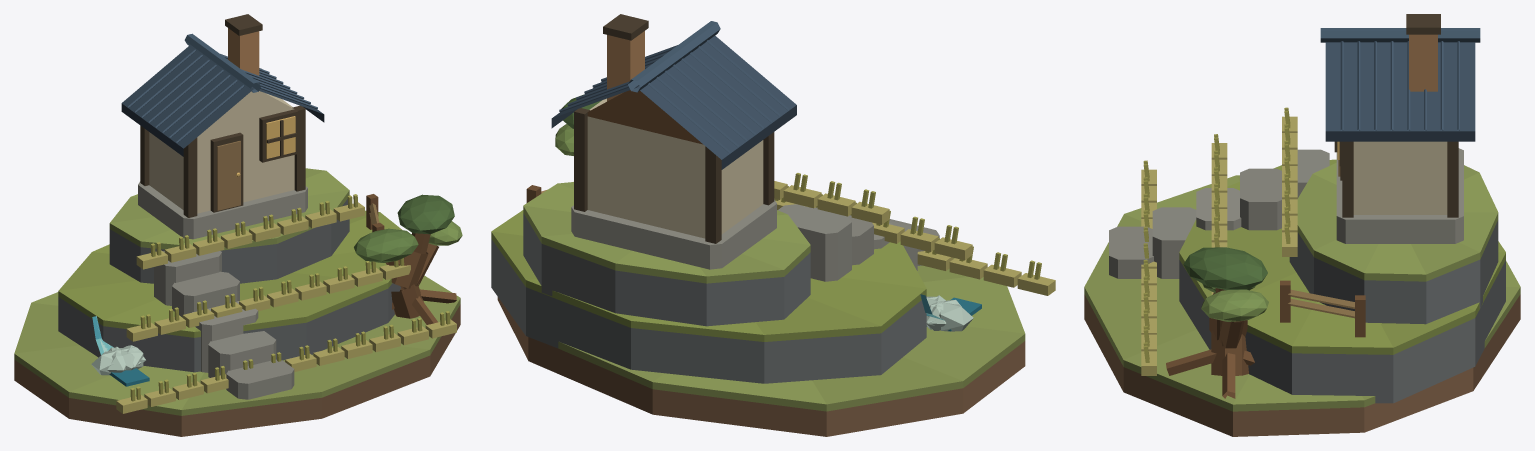
3 views of the same model, side by side, from view 1: azimuth 30°, elevation 25°; view 2: azimuth 150°, elevation 25°; view 3: azimuth 270°, elevation 25° (orthographic). The views are drawn at different scales.
Parts seen in each view (by area): view 1: S19_梯田山村; view 2: S19_梯田山村; view 3: S19_梯田山村.
Boxes of the visible parts, <box> form: S19_梯田山村: <box>14,14,462,436</box>; S19_梯田山村: <box>491,14,1055,436</box>; S19_梯田山村: <box>1084,14,1520,436</box>.
Size of the model in its own units: 4.88 by 3.31 by 3.9.
